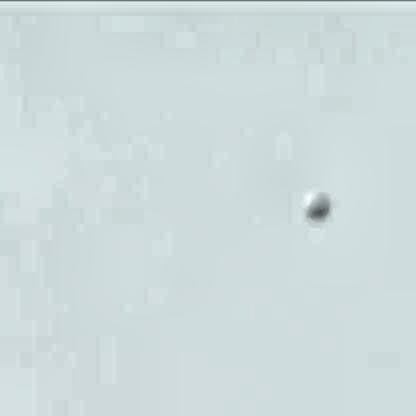golfball: (299, 186, 329, 217)
